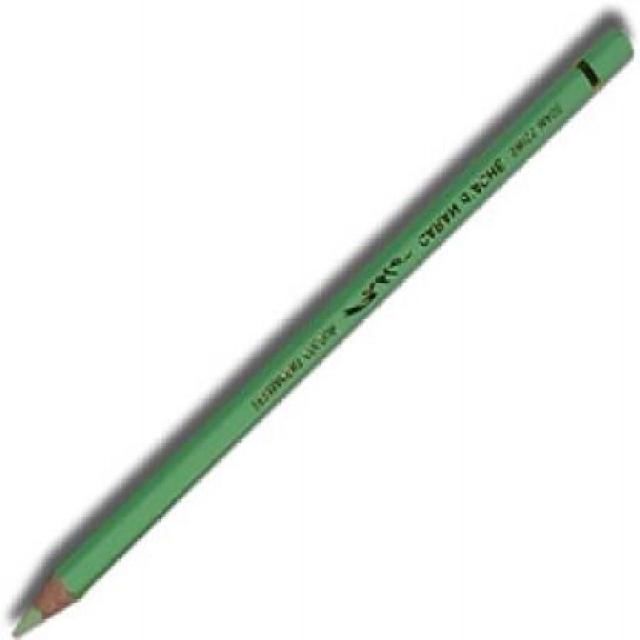pencil: (0, 540, 123, 640)
